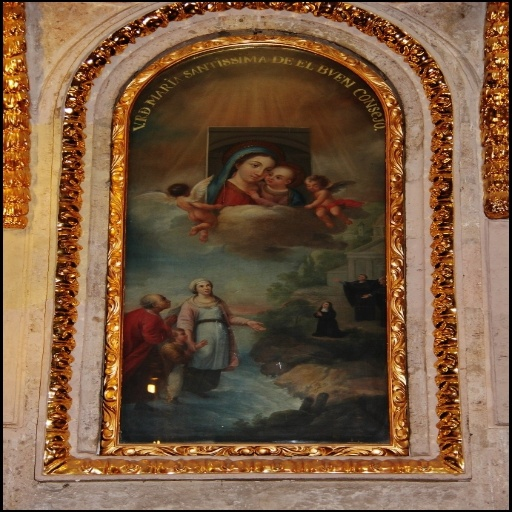hand: (245, 318, 270, 334), (245, 189, 261, 200), (183, 341, 196, 353), (195, 339, 208, 348), (211, 203, 224, 211), (300, 204, 312, 211)
